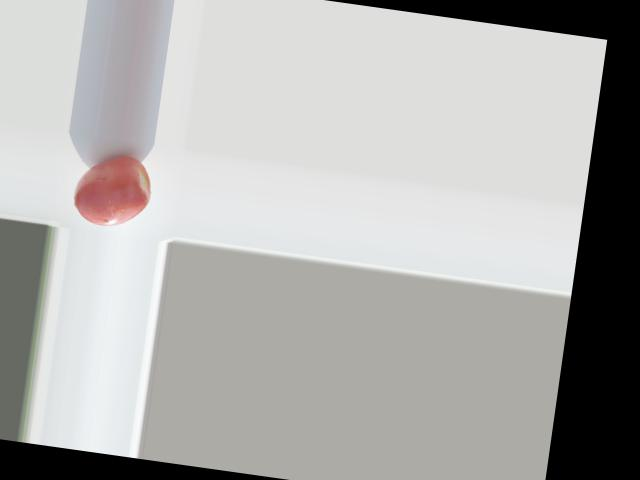tomato: (70, 150, 155, 231)
